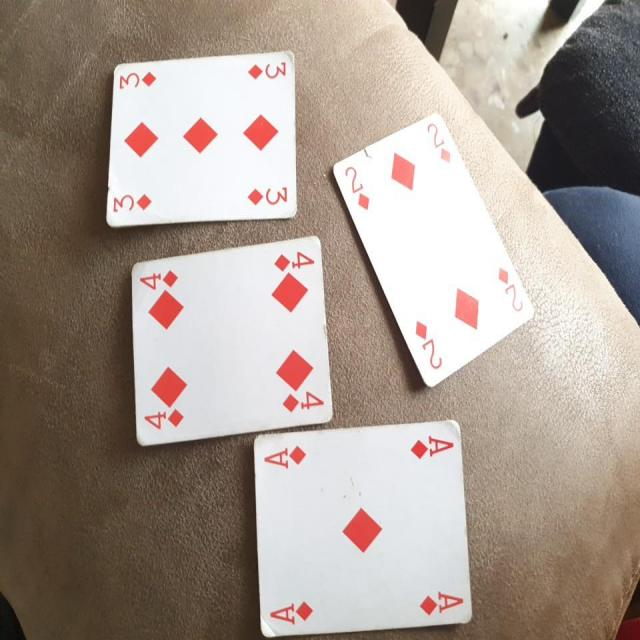2 Diamonds: (330, 102, 536, 399)
3 Diamonds: (97, 48, 302, 228)
4 Diamonds: (131, 230, 339, 447)
A Diamonds: (253, 412, 476, 634)
